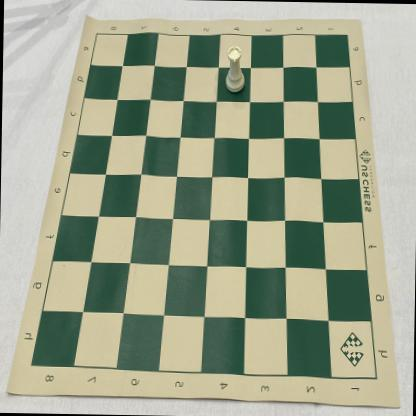white-rook: (224, 44, 245, 93)
